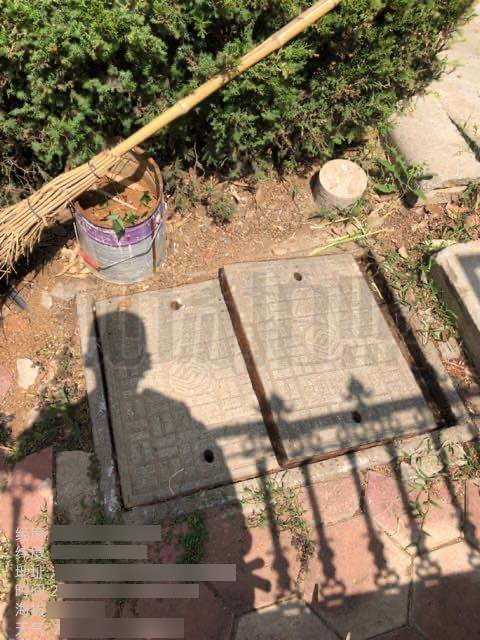uncovered: (76, 245, 475, 532)
